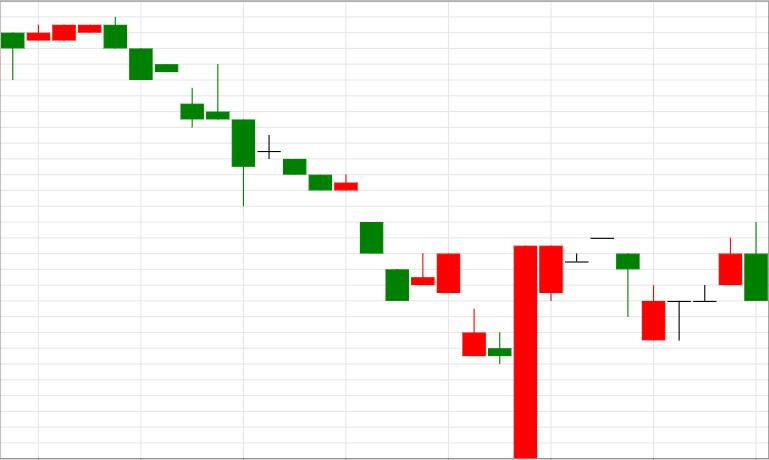bearish_engulfing_fall: (642, 222, 768, 340)
bullish_engulfing_rise: (360, 221, 537, 459)
